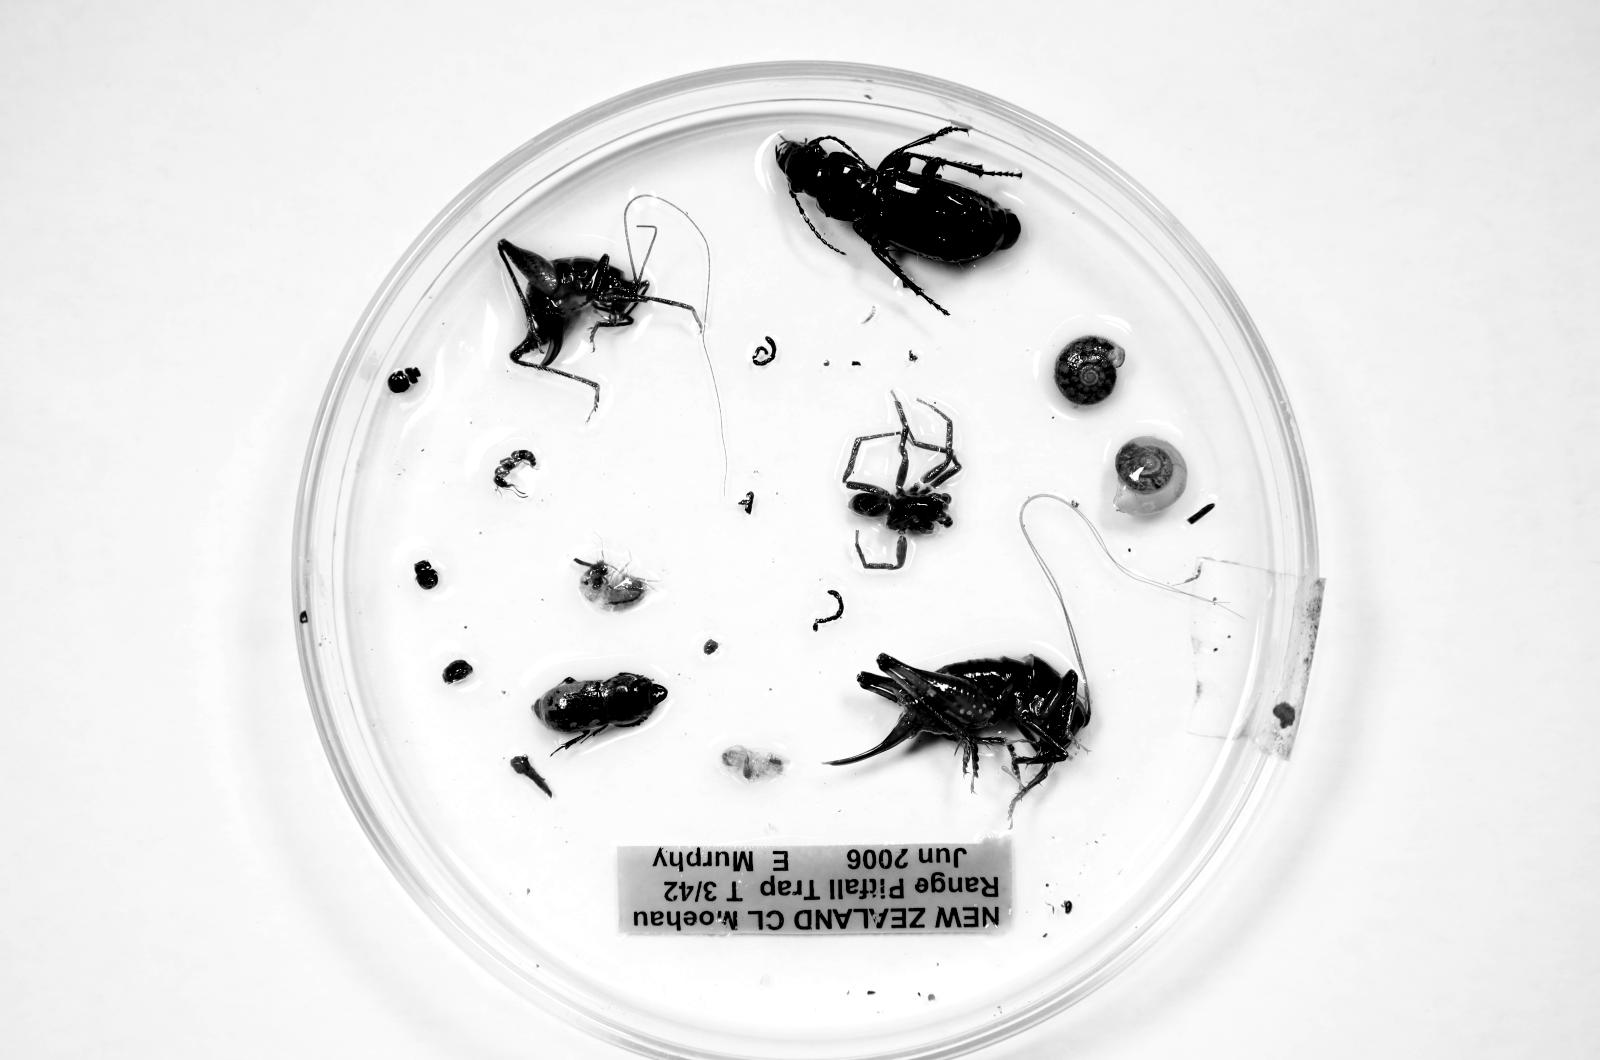amphipoda: (574, 558, 650, 610)
araneae: (841, 390, 961, 569)
carabidae: (776, 125, 1022, 315)
coleoptera: (532, 672, 668, 755), (387, 367, 421, 394), (414, 560, 439, 590), (442, 659, 473, 684)
formicidae: (494, 450, 537, 498)
gastropoda: (1113, 435, 1187, 516), (1054, 336, 1125, 407)
orthoptera: (827, 653, 1089, 826), (498, 239, 700, 370)
